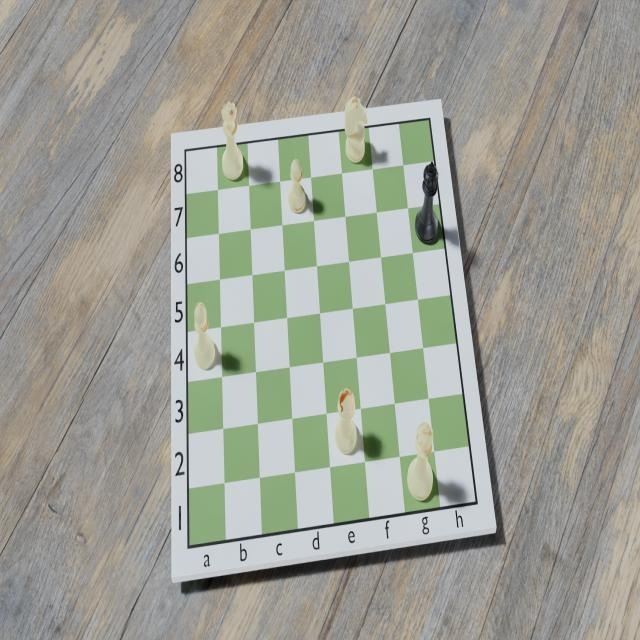black-king: (414, 158, 442, 250)
white-bishop: (190, 297, 218, 375)
white-king: (408, 416, 438, 508)
white-knight: (345, 94, 371, 167)
white-pawn: (286, 154, 309, 218)
white-queen: (218, 98, 246, 185)
white-rook: (334, 388, 359, 460)
